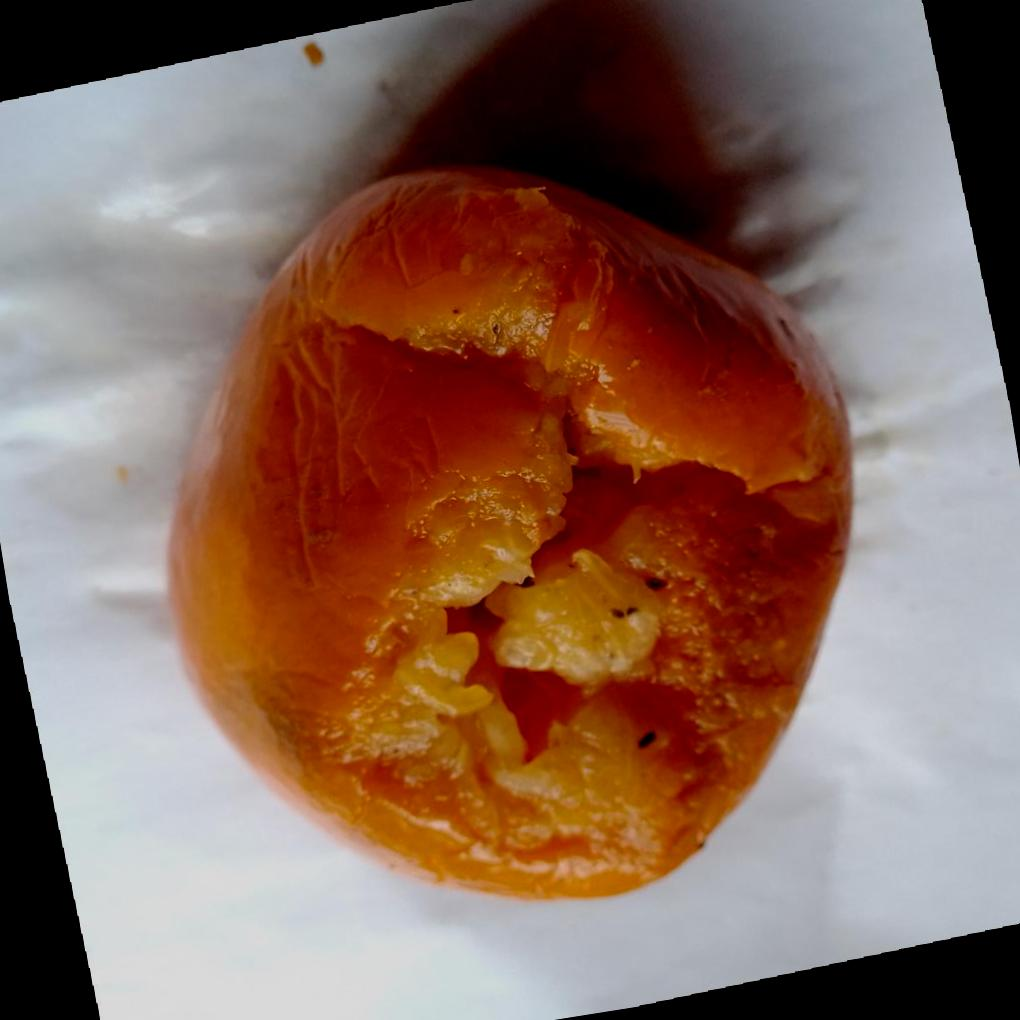FreshOrange: (159, 163, 852, 904)
